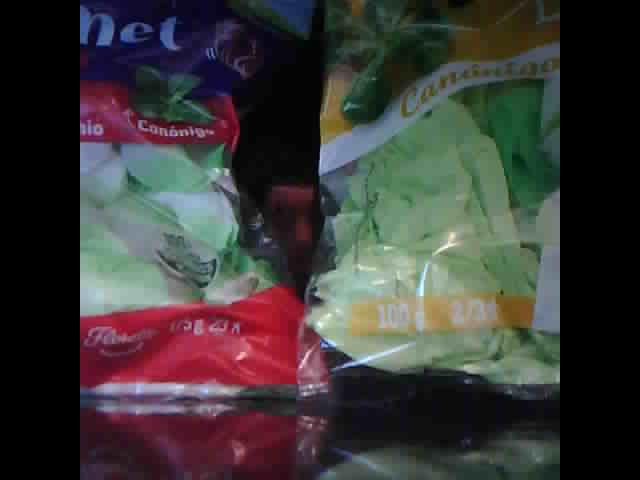florette: (295, 1, 559, 399), (81, 2, 324, 417)
